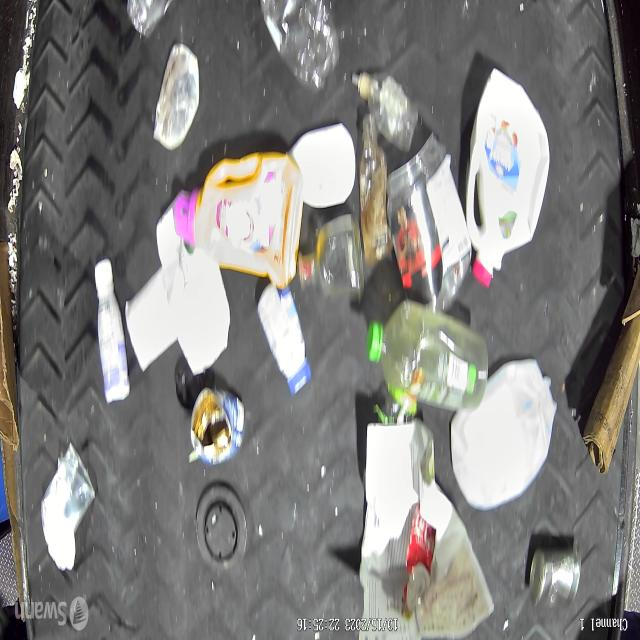can: (190, 387, 245, 466), (529, 543, 581, 609)
milk_jug: (467, 66, 549, 284), (448, 356, 555, 512)
non_white_jug: (173, 154, 303, 288)
plastic_bottle: (367, 297, 485, 409), (261, 0, 339, 92)
